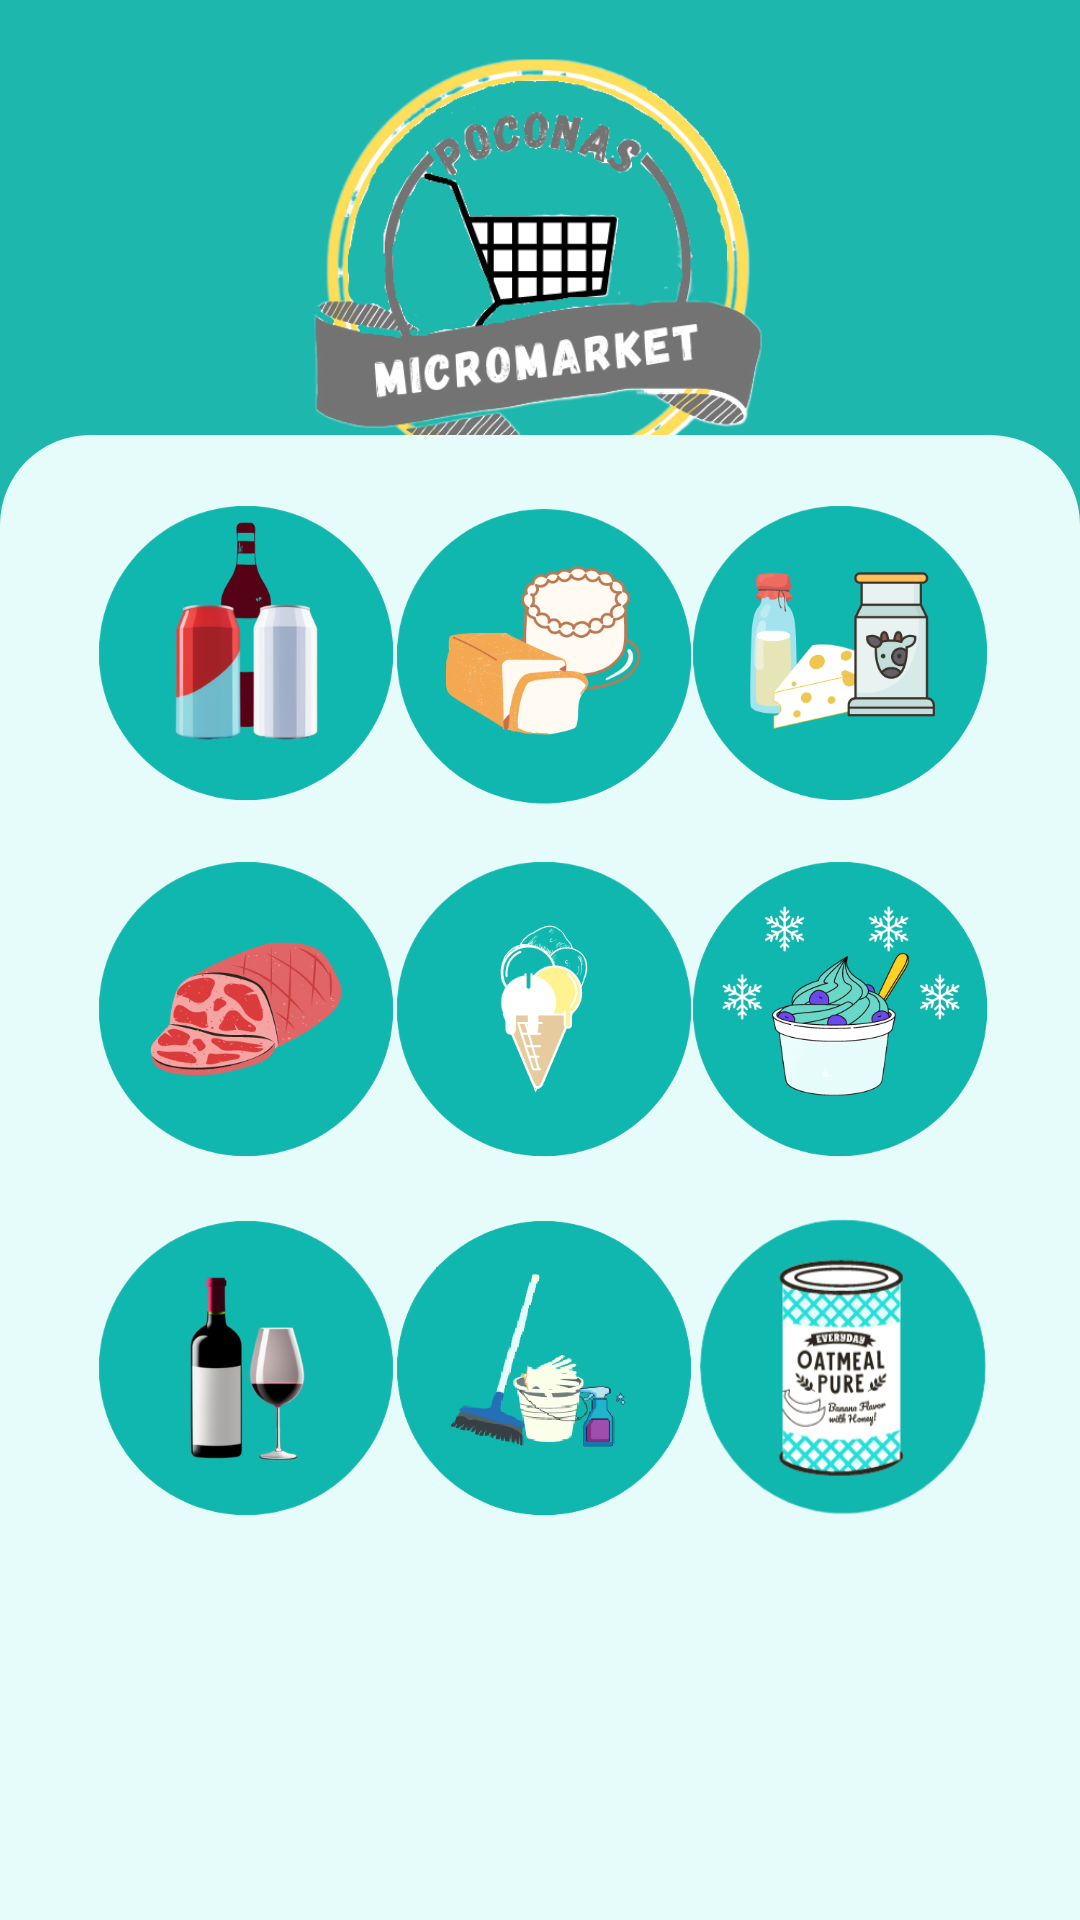

Where icons sit on this 1080 x 1920 app screen, as region(x1, y1, x2, y2):
bebidas: region(99, 506, 393, 800)
carnes: region(99, 862, 393, 1156)
lacteos: region(693, 506, 987, 800)
licores: region(99, 1221, 393, 1515)
limpieza: region(397, 1221, 691, 1515)
panaderia: region(397, 509, 691, 804)
